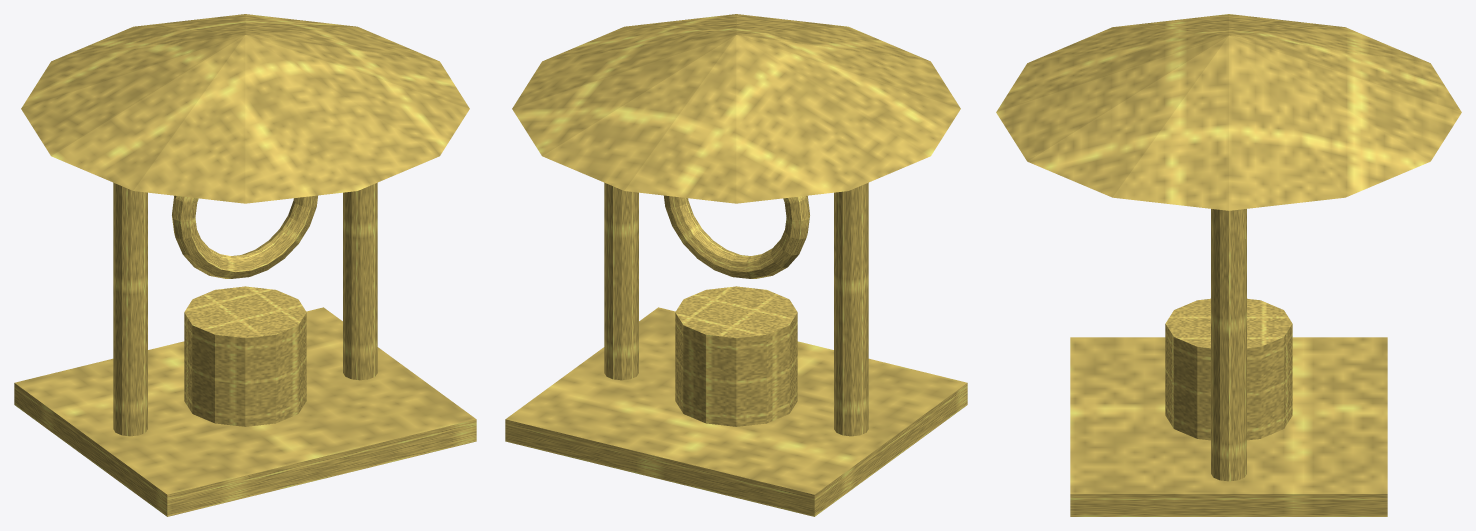
Rendered from dawn_sanctuary_00.glb.
3 views of the same model, side by side, from view 1: azimuth 30°, elevation 25°; view 2: azimuth 150°, elevation 25°; view 3: azimuth 270°, elevation 25° (orthographic). The views are drawn at different scales.
Visible parts, largest first — view 1: DawnRoof, Foundation, DawnAltar, DawnColumn, DawnColumn.001, SunDisk; view 2: DawnRoof, Foundation, DawnAltar, DawnColumn, DawnColumn.001, SunDisk; view 3: DawnRoof, Foundation, DawnAltar, DawnColumn.001.
Part boxes in pixels (bbox=[...]): DawnRoof: bbox=[21, 14, 469, 203]; Foundation: bbox=[14, 307, 476, 516]; DawnAltar: bbox=[184, 286, 306, 426]; DawnColumn: bbox=[113, 182, 147, 436]; DawnColumn.001: bbox=[343, 182, 377, 380]; SunDisk: bbox=[172, 195, 318, 278]; DawnRoof: bbox=[512, 14, 960, 203]; Foundation: bbox=[505, 307, 967, 516]; DawnAltar: bbox=[675, 286, 797, 426]; DawnColumn: bbox=[834, 182, 868, 436]; DawnColumn.001: bbox=[604, 182, 638, 380]; SunDisk: bbox=[663, 195, 809, 278]; DawnRoof: bbox=[996, 14, 1461, 210]; Foundation: bbox=[1070, 337, 1387, 516]; DawnAltar: bbox=[1165, 298, 1292, 440]; DawnColumn.001: bbox=[1211, 209, 1246, 481].
Bounding box in the file's own units: 4.4 × 4.2 × 4.4.
1 material, 1 textured.
